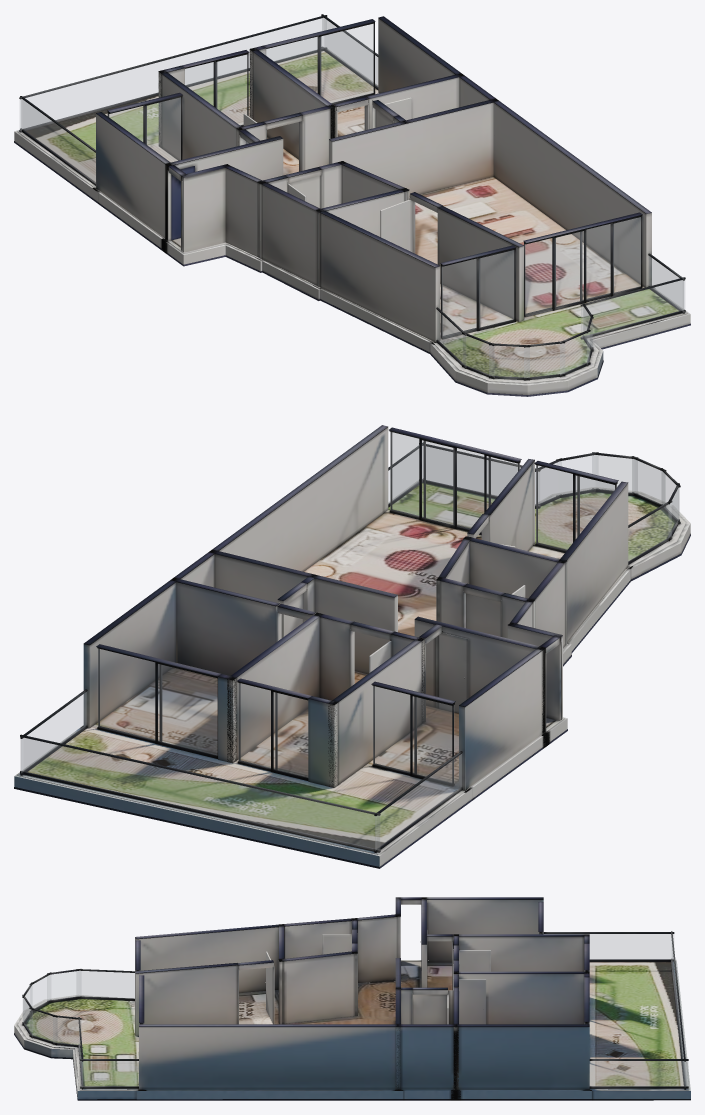
3 views of the same model, one above another, from view 1: azimuth 30°, elevation 25°; view 2: azimuth 150°, elevation 25°; view 3: azimuth 270°, elevation 25° (orthographic). The views are drawn at different scales.
Parts seen in each view (by area): view 1: plan, glass4_m, railg0_m, glass1_m, glass3_m, railg4_m, glass0_m, glass2_m, railg3_m, railg1_m, railg8_m, railg9_m (+4 smaller); view 2: plan, railg0_m, glass1_m, glass4_m, glass2_m, glass0_m, glass3_m, railg3_m, railg4_m, railg1_m, railg11_m, railg7_m (+3 smaller); view 3: plan, railg1_m, railg3_m, railg2_m, railg11_m, railg10_m, railg6_m, railg5_m, railg9_m.
Part boxes in pixels (bbox=[...]): plan: bbox=[14, 14, 690, 396]; glass4_m: bbox=[525, 217, 640, 314]; railg0_m: bbox=[20, 18, 326, 129]; glass1_m: bbox=[266, 24, 373, 103]; glass3_m: bbox=[442, 250, 513, 336]; railg4_m: bbox=[581, 280, 684, 336]; glass0_m: bbox=[185, 55, 246, 125]; glass2_m: bbox=[109, 97, 180, 161]; railg3_m: bbox=[21, 99, 95, 182]; railg1_m: bbox=[322, 18, 377, 86]; railg8_m: bbox=[524, 343, 564, 377]; railg9_m: bbox=[489, 345, 529, 377]; plan: bbox=[14, 425, 690, 868]; railg0_m: bbox=[20, 738, 379, 849]; glass1_m: bbox=[98, 649, 217, 755]; glass4_m: bbox=[390, 432, 517, 529]; glass2_m: bbox=[373, 686, 451, 782]; glass0_m: bbox=[238, 683, 307, 777]; glass3_m: bbox=[536, 465, 614, 550]; railg3_m: bbox=[375, 754, 461, 850]; railg4_m: bbox=[426, 447, 539, 505]; railg1_m: bbox=[21, 692, 86, 772]; railg11_m: bbox=[628, 503, 671, 561]; railg7_m: bbox=[592, 455, 637, 493]; plan: bbox=[14, 897, 690, 1100]; railg1_m: bbox=[590, 1061, 688, 1086]; railg3_m: bbox=[589, 934, 673, 959]; railg2_m: bbox=[80, 1061, 138, 1086]; railg11_m: bbox=[77, 971, 134, 998]; railg10_m: bbox=[47, 971, 80, 1000]; railg6_m: bbox=[30, 1009, 57, 1042]; railg5_m: bbox=[53, 1017, 81, 1044]; railg9_m: bbox=[31, 975, 50, 1008].
Size of the model in its own units: 10.13 by 2.62 by 22.05.
2 materials, 1 textured.
